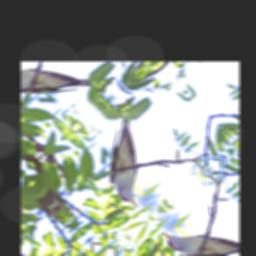Cuckoo: (68, 97, 193, 212)
